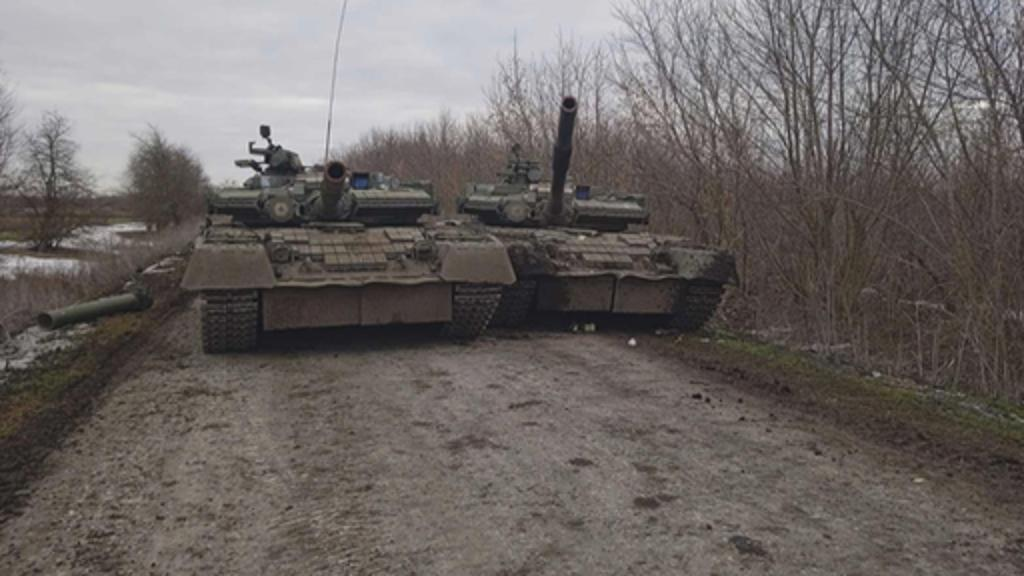TANK: (432, 94, 736, 348), (188, 138, 500, 360)
